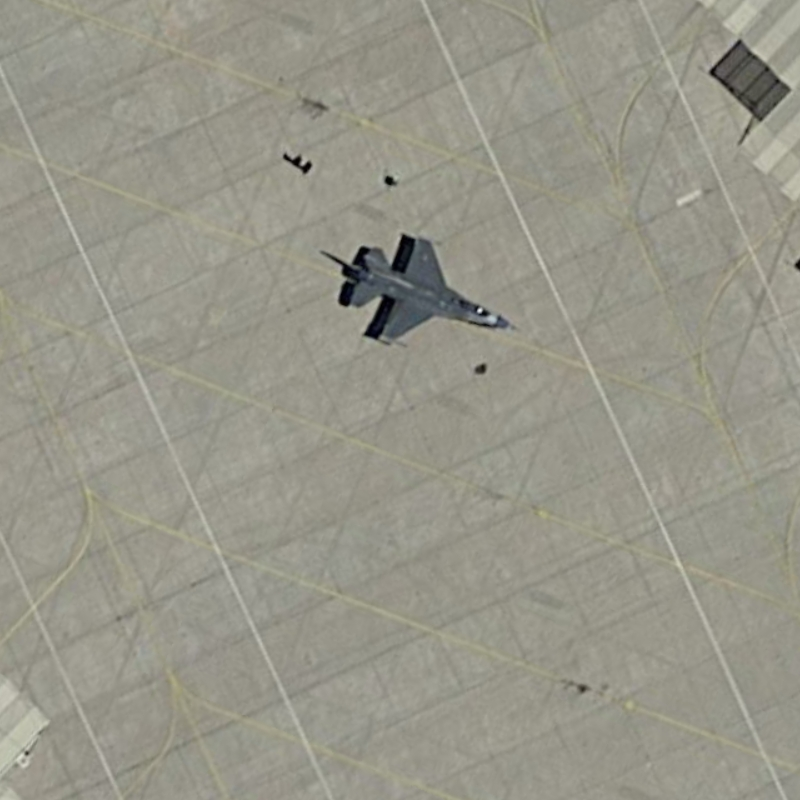A5: (337, 227, 522, 347)
